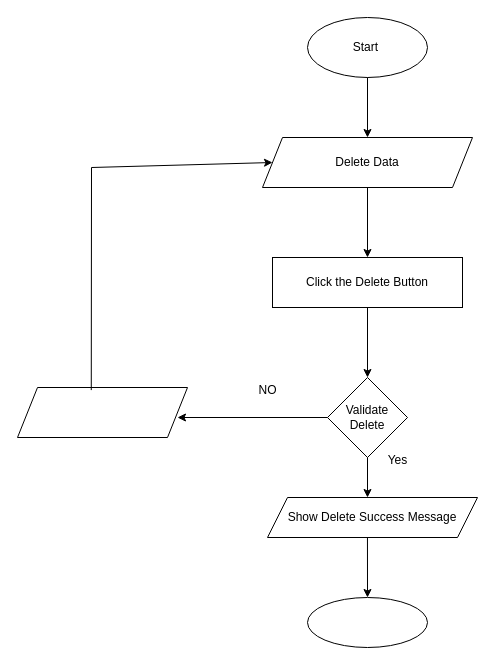
This 495x665 diagram has some shape labels left out. Each missing label, with the box of its shape:
End: (306, 596, 428, 648)
If invalid Show Error: (16, 386, 188, 438)
